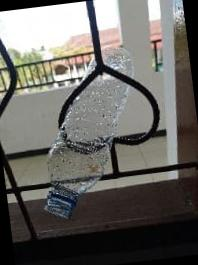Plastik: (45, 73, 130, 218), (105, 48, 132, 74)
